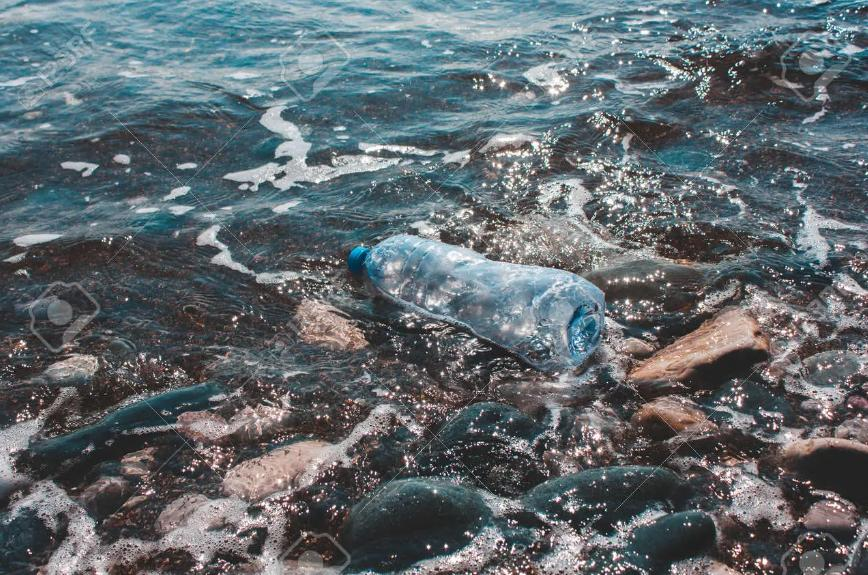bottle: (338, 213, 626, 389)
